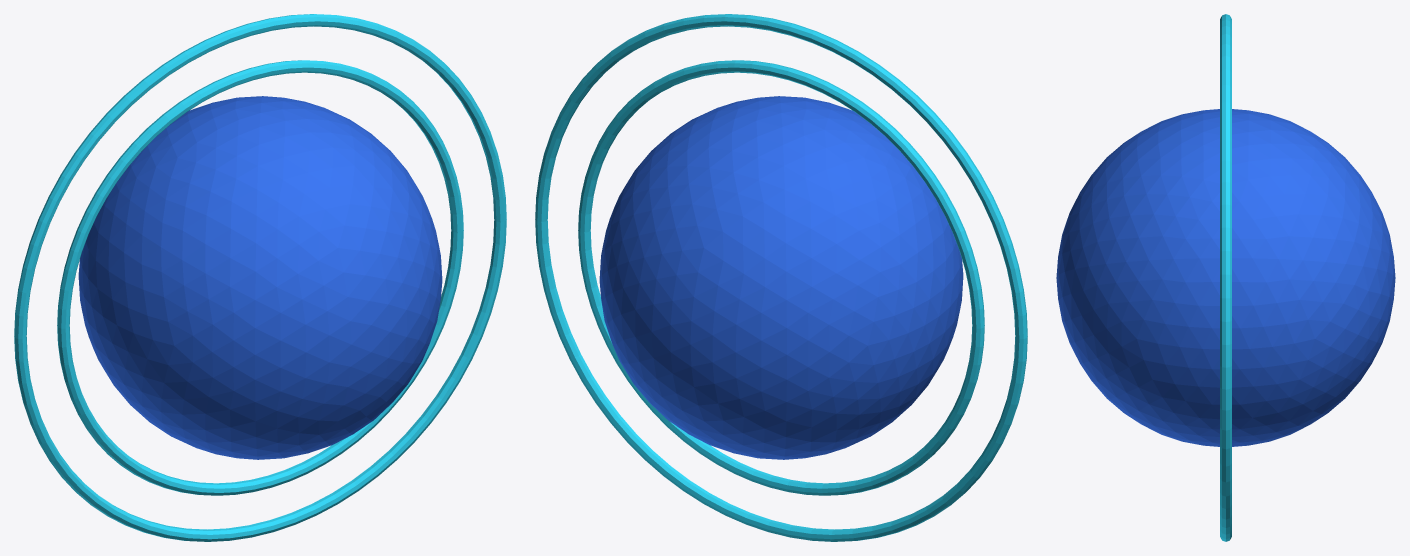
The model's file is 15_L85_EarthOrbitalReferenceHologram.fbx.
The picture shows the model from 3 angles, left to right: view 1: azimuth 30°, elevation 25°; view 2: azimuth 150°, elevation 25°; view 3: azimuth 270°, elevation 25°; orthographic projection. The views are drawn at different scales.
Visible parts, largest first — view 1: L85_EarthOrbitalReferenceHologram_Part_0000, L85_EarthOrbitalReferenceHologram_Part_0001; view 2: L85_EarthOrbitalReferenceHologram_Part_0000, L85_EarthOrbitalReferenceHologram_Part_0001; view 3: L85_EarthOrbitalReferenceHologram_Part_0000, L85_EarthOrbitalReferenceHologram_Part_0001.
Part boxes in pixels (x1,y1,x2,y2): L85_EarthOrbitalReferenceHologram_Part_0000: (78,96,442,459); L85_EarthOrbitalReferenceHologram_Part_0001: (14,14,506,541); L85_EarthOrbitalReferenceHologram_Part_0000: (599,96,963,459); L85_EarthOrbitalReferenceHologram_Part_0001: (535,14,1027,541); L85_EarthOrbitalReferenceHologram_Part_0000: (1056,109,1395,446); L85_EarthOrbitalReferenceHologram_Part_0001: (1220,14,1231,541).
Bounding box in the file's own units: 274 × 274 × 176.
